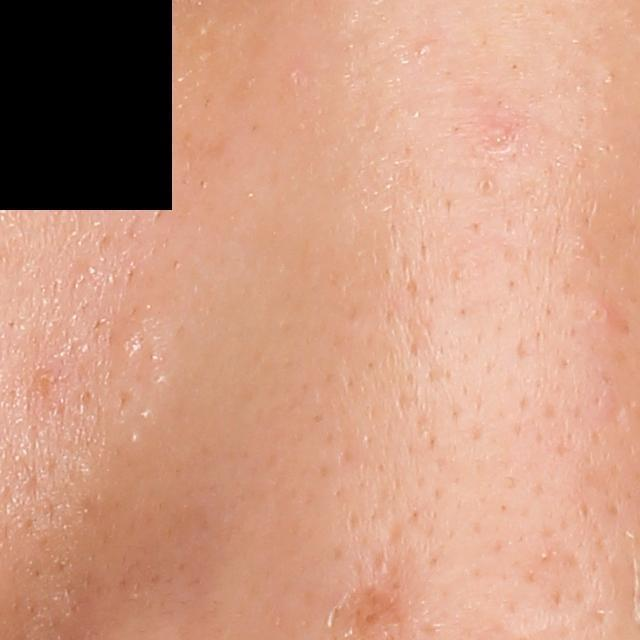comedo: (478, 176, 496, 194), (417, 39, 431, 58)
